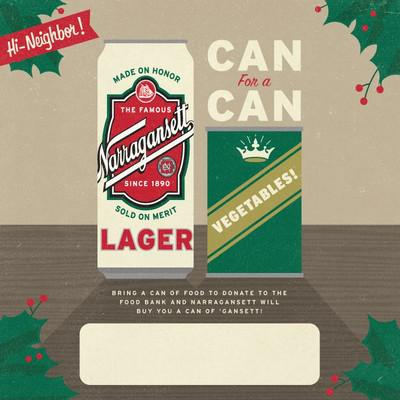beer: (97, 39, 200, 281)
